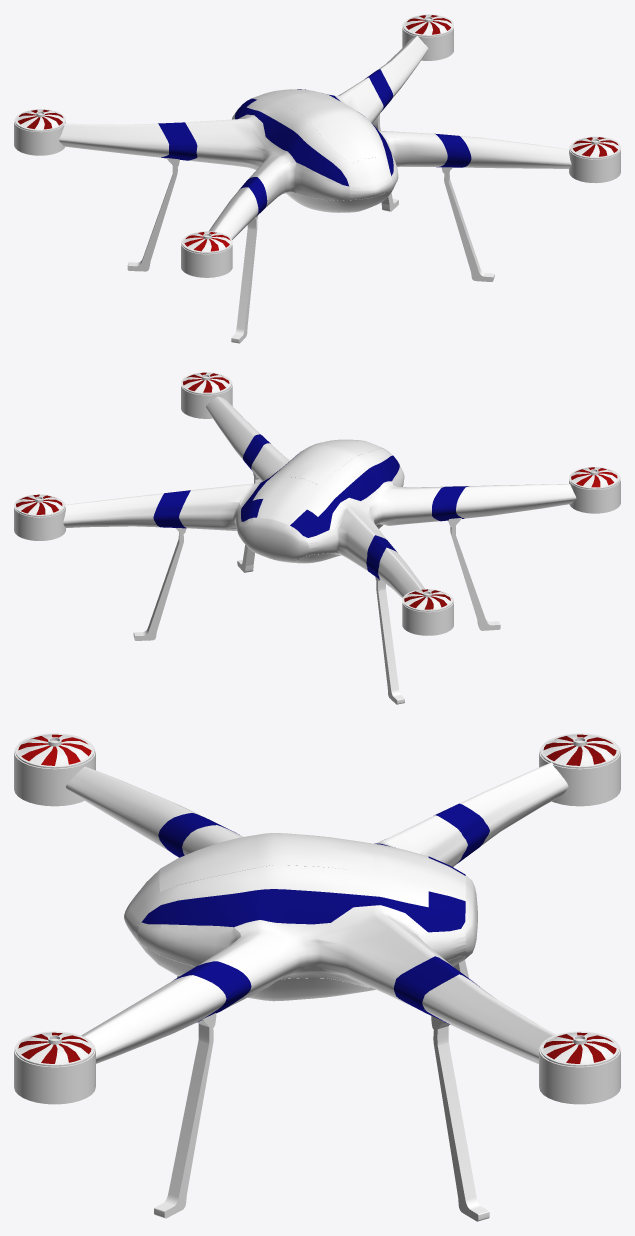
Rendered from 无人机主体.obj.
The picture shows the model from 3 angles, top to bottom: view 1: azimuth 30°, elevation 25°; view 2: azimuth 150°, elevation 25°; view 3: azimuth 270°, elevation 25°; orthographic projection. The views are drawn at different scales.
Parts seen in each view (by area): view 1: Box001, Line006, Object020, Object021, Object019, Circle014, Circle010, Object018, Circle012, Circle008, Sphere007, Sphere006 (+2 smaller); view 2: Box001, Line006, Object021, Object019, Object020, Circle012, Circle008, Circle014, Circle010, Sphere006, Sphere007, Sphere005 (+1 smaller); view 3: Box001, Object019, Line006, Object020, Object021, Circle010, Circle008, Object018, Circle014, Circle012, Sphere007, Sphere006 (+8 smaller).
Boxes of the visible parts, box(x1,y1,x2,y2) form: Box001: box(59, 35, 571, 239); Line006: box(127, 114, 494, 343); Object020: box(280, 93, 379, 164); Object021: box(158, 69, 471, 216); Object019: box(235, 89, 393, 186); Circle014: box(181, 236, 232, 277); Circle010: box(569, 141, 620, 183); Object018: box(255, 169, 393, 212); Circle012: box(14, 114, 65, 155); Circle008: box(402, 19, 453, 60); Sphere007: box(182, 231, 232, 252); Sphere006: box(15, 109, 65, 130); Box001: box(63, 396, 576, 597); Line006: box(133, 472, 500, 704); Object021: box(153, 434, 468, 579); Object019: box(241, 454, 399, 537); Object020: box(287, 439, 384, 485); Circle012: box(402, 594, 453, 635); Circle008: box(14, 499, 65, 540); Circle014: box(569, 470, 620, 513); Circle010: box(181, 377, 232, 418); Sphere006: box(402, 589, 452, 610); Sphere007: box(569, 467, 619, 488); Sphere005: box(181, 372, 231, 393); Box001: box(66, 762, 568, 1064); Object019: box(141, 843, 465, 932); Line006: box(154, 960, 489, 1221); Object020: box(159, 833, 372, 892); Object021: box(158, 803, 489, 1024); Circle010: box(14, 1031, 95, 1104); Circle008: box(539, 1031, 620, 1104); Object018: box(135, 938, 465, 1001); Circle014: box(14, 733, 95, 806); Circle012: box(539, 733, 620, 806); Sphere007: box(15, 733, 94, 767); Sphere006: box(540, 733, 619, 767).
Size of the model in its own units: 14652 by 5628 by 11297.
